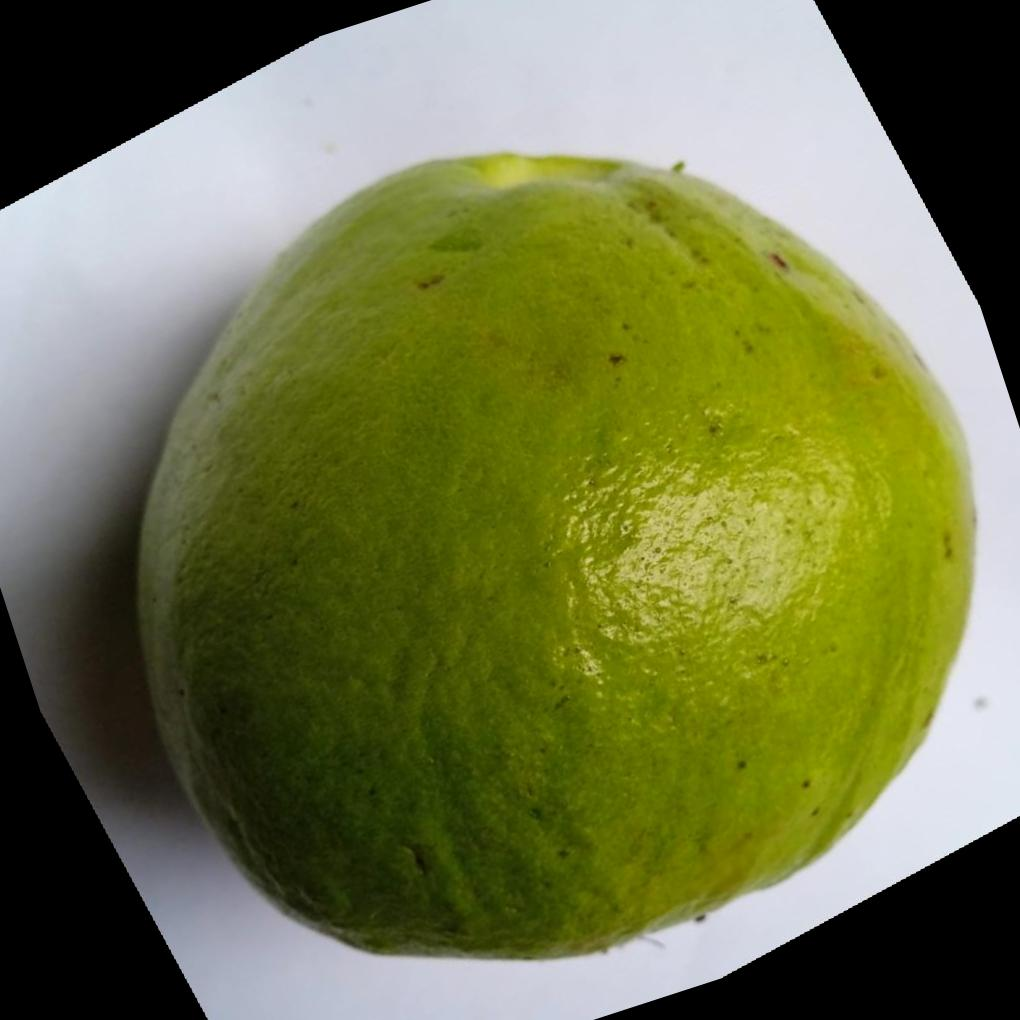FreshGuava: (128, 149, 975, 964)
